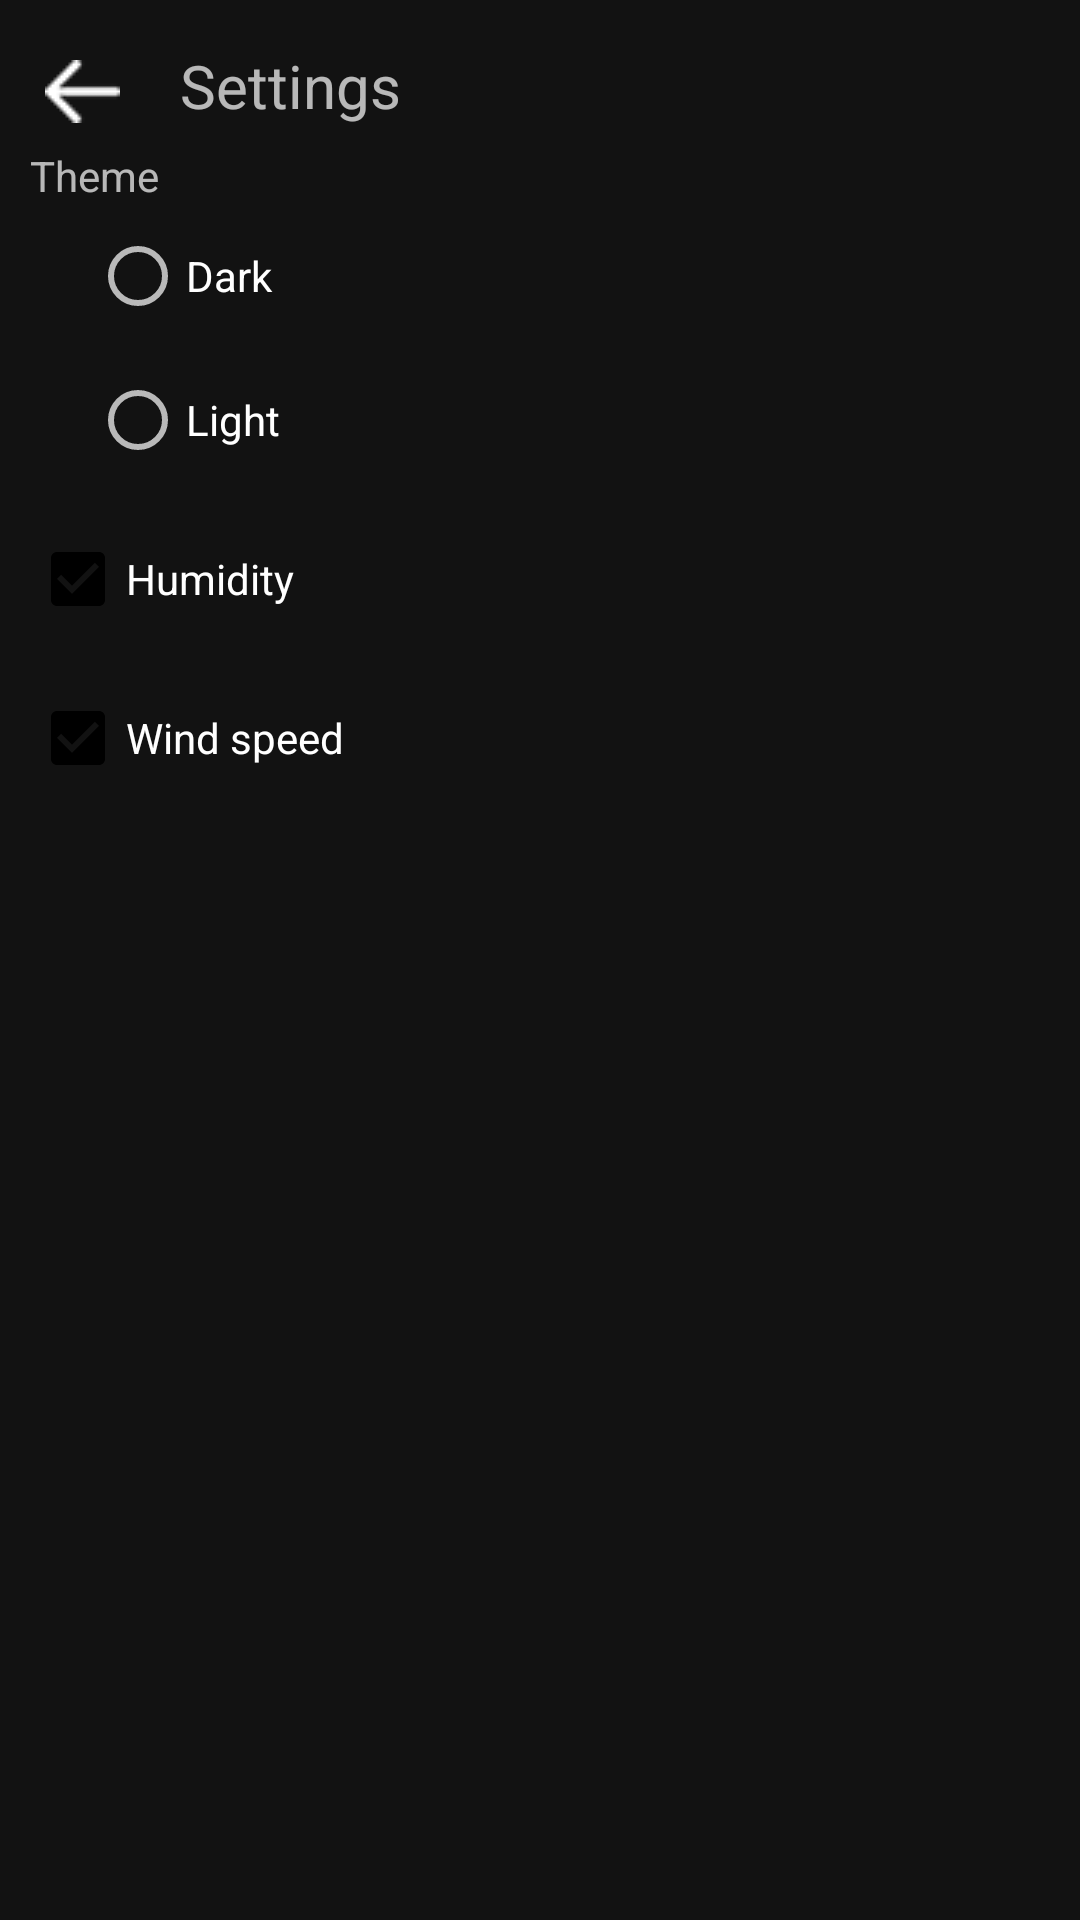

Screen size 1080w x 1920h. Icon name, then its center in pixels as (x,y):
back: (82,91)
